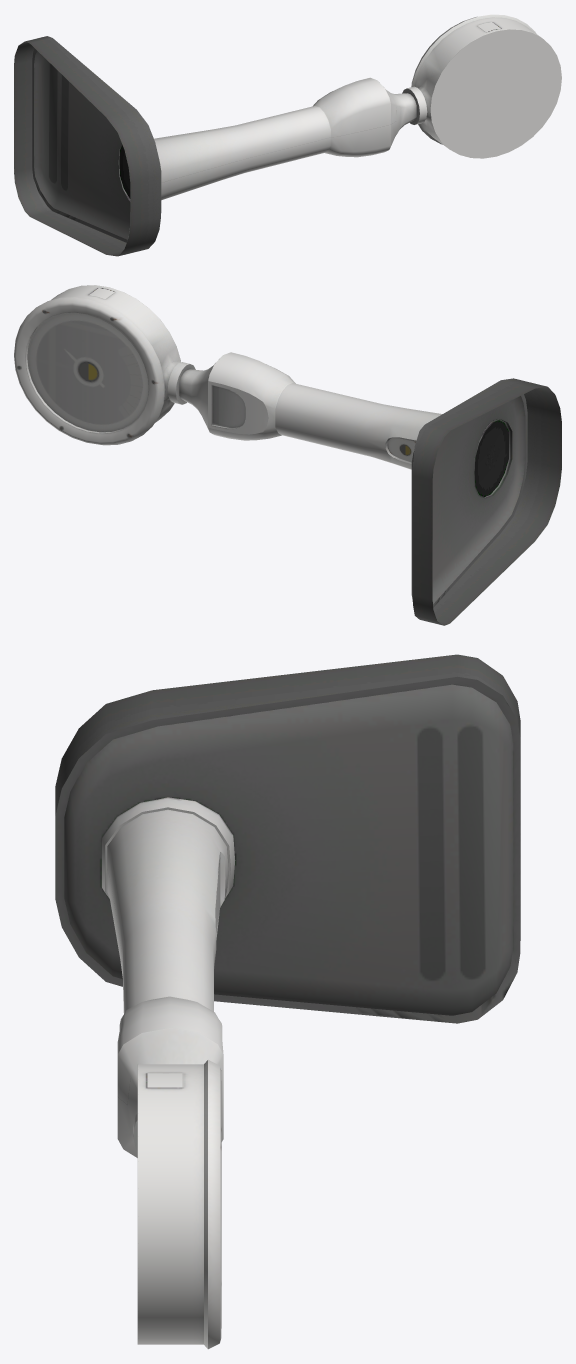
File: props_gameplay_weight_scale.glb
3 renders of one model, top to bottom at view 1: azimuth 30°, elevation 25°; view 2: azimuth 150°, elevation 25°; view 3: azimuth 270°, elevation 25°, orthographic. The views are drawn at different scales.
Parts seen in each view (by area): view 1: models/props_gameplay/weight_scale; view 2: models/props_gameplay/weight_scale; view 3: models/props_gameplay/weight_scale.
Boxes of the visible parts, x1=… form: models/props_gameplay/weight_scale: x1=14, y1=14, x2=561, y2=256; models/props_gameplay/weight_scale: x1=14, y1=285, x2=561, y2=625; models/props_gameplay/weight_scale: x1=55, y1=654, x2=520, y2=1349.
Size of the model in its own units: 95.18 by 34.71 by 42.18.
Materials: 1 (1 with a texture image).
